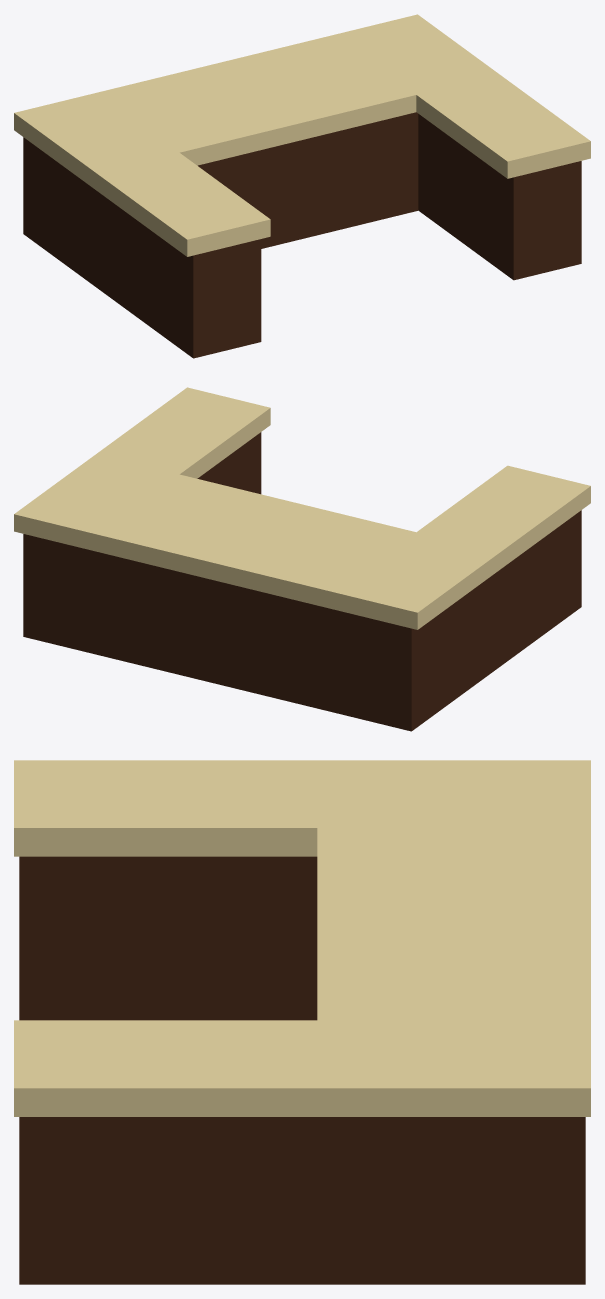
The model's file is hunters_wimb_kitchentable.fbx.
The picture shows the model from 3 angles, top to bottom: view 1: azimuth 30°, elevation 25°; view 2: azimuth 150°, elevation 25°; view 3: azimuth 270°, elevation 25°; orthographic projection. The views are drawn at different scales.
Parts seen in each view (by area): view 1: Cube.003; view 2: Cube.003; view 3: Cube.003.
Boxes of the visible parts, x1,y1,x2,y2 form: Cube.003: (14,14,590,358); Cube.003: (14,387,590,731); Cube.003: (14,760,590,1284).
Size of the model in its own units: 170 by 49.09 by 127.
